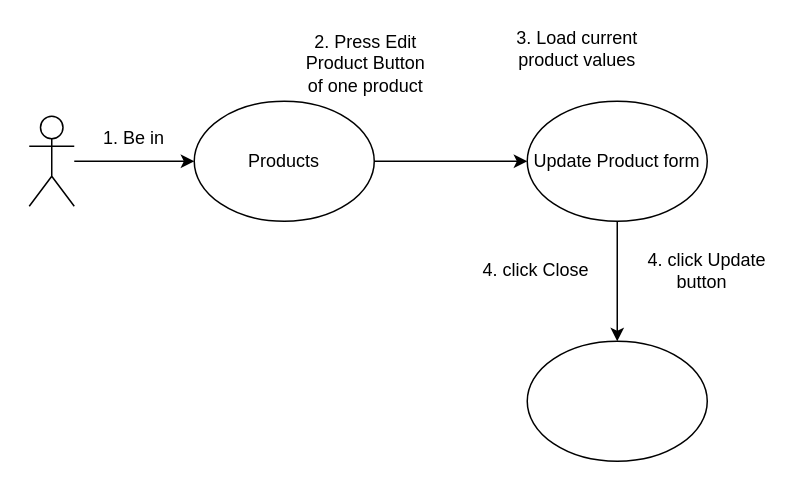
This 801x488 diagram has some shape labels left out. The shapes that lost their labels are listed below. From the top down, each one's centre as x and y in pixels, then its label:
At (x=51, y=160): "Admin".
At (x=616, y=400): "Products List".
